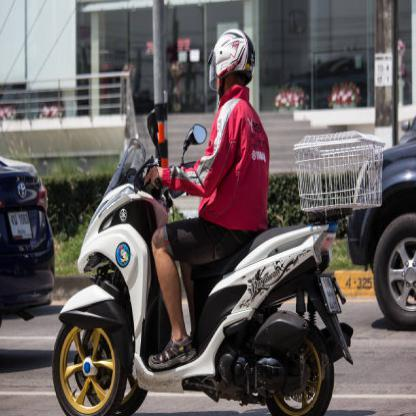Motorcycle: (50, 155, 353, 415)
